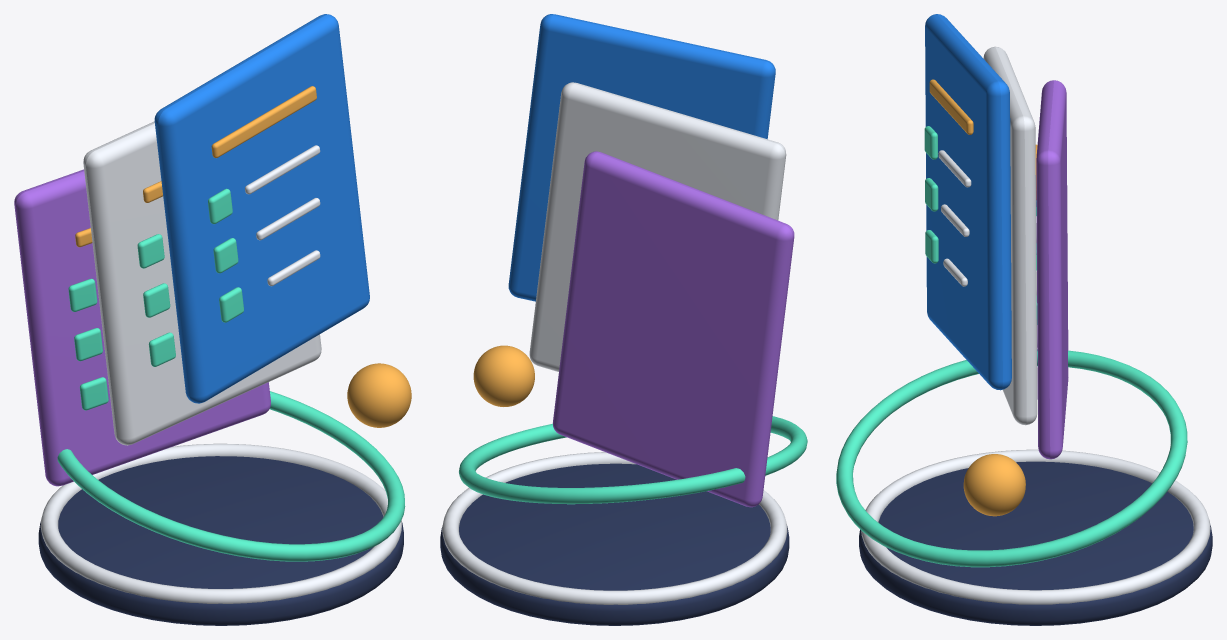
File: carousel-tasks.glb
3 views of the same model, side by side, from view 1: azimuth 30°, elevation 25°; view 2: azimuth 150°, elevation 25°; view 3: azimuth 270°, elevation 25° (orthographic). The views are drawn at different scales.
Visible parts, largest first — view 1: Thick task card.002, Floating display plinth, Thick task card, Thick task card.001, Plinth accent, Task orbit, Completed milestone, Card heading.002, Task text.006, Task checkbox.002, Task checkbox, Task checkbox.001 (+8 smaller); view 2: Thick task card, Floating display plinth, Thick task card.002, Thick task card.001, Plinth accent, Task orbit, Completed milestone; view 3: Floating display plinth, Thick task card.002, Task orbit, Thick task card, Plinth accent, Thick task card.001, Completed milestone, Card heading.002.
Part boxes in pixels (box(x1,y1,x2,y2)): Thick task card.002: box(154, 14, 369, 403); Floating display plinth: box(38, 456, 403, 625); Thick task card: box(14, 169, 270, 486); Thick task card.001: box(83, 121, 321, 445); Plinth accent: box(40, 443, 401, 603); Task orbit: box(57, 391, 405, 561); Completed milestone: box(347, 363, 411, 427); Card heading.002: box(211, 86, 316, 158); Task text.006: box(245, 145, 320, 194); Task checkbox.002: box(79, 377, 108, 410); Task checkbox: box(68, 278, 97, 311); Task checkbox.001: box(74, 328, 102, 361); Thick task card: box(553, 151, 794, 507); Floating display plinth: box(440, 463, 789, 625); Thick task card.002: box(508, 14, 775, 301); Thick task card.001: box(529, 82, 786, 371); Plinth accent: box(442, 452, 787, 604); Task orbit: box(459, 416, 807, 504); Completed milestone: box(473, 345, 534, 406); Floating display plinth: box(859, 461, 1212, 625); Thick task card.002: box(925, 14, 1011, 390); Task orbit: box(836, 349, 1187, 567); Thick task card: box(1036, 80, 1068, 459); Plinth accent: box(861, 449, 1210, 604); Thick task card.001: box(983, 46, 1037, 425); Completed milestone: box(963, 454, 1025, 516); Card heading.002: box(929, 79, 973, 134).
Size of the model in its own units: 3.1 by 4.35 by 2.89.
